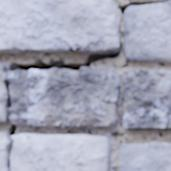brick: (0, 0, 119, 52), (123, 70, 170, 130), (124, 1, 170, 61), (120, 143, 170, 170), (79, 49, 86, 53)
broken_brick: (8, 67, 119, 128), (12, 132, 111, 170), (0, 63, 7, 122), (0, 132, 8, 170)
crack: (2, 0, 168, 170)
